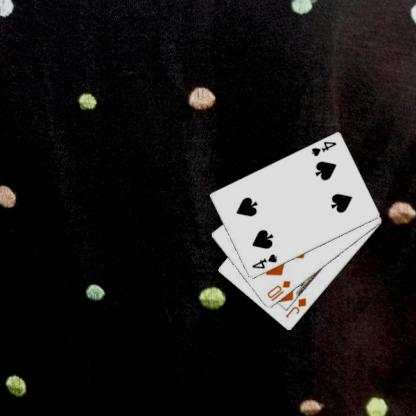10D: (265, 278, 292, 303)
4S: (308, 139, 338, 158), (249, 252, 278, 270)
JD: (283, 295, 308, 320)
